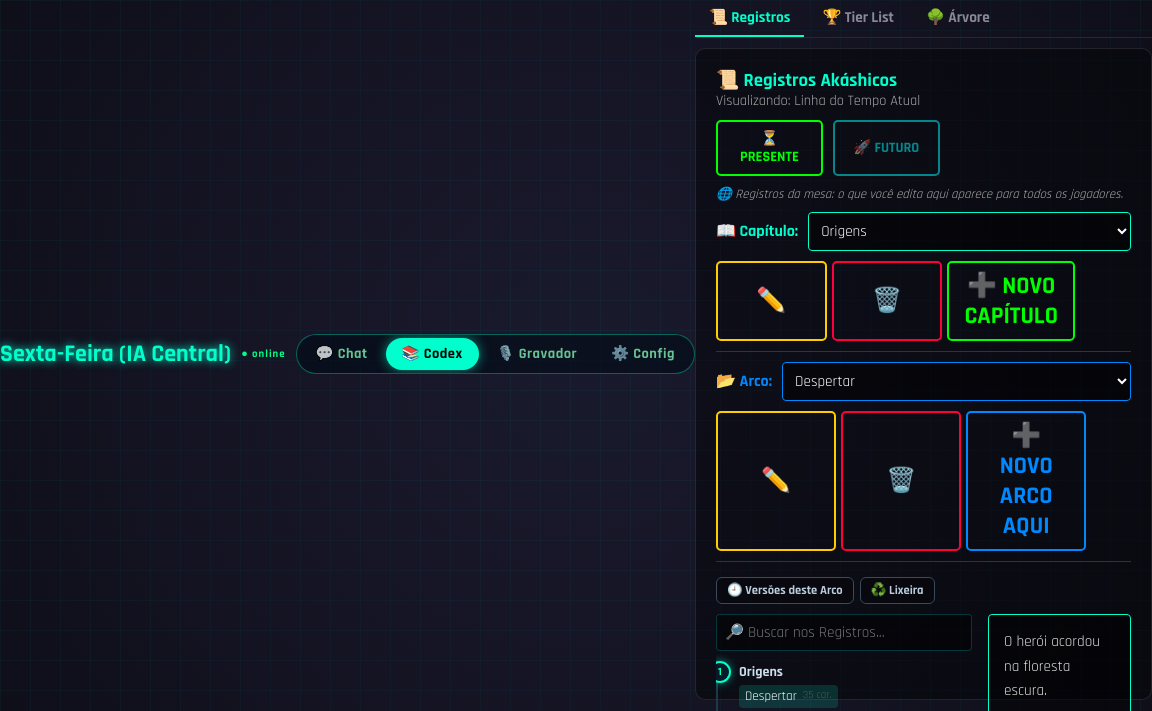
VersoesArcoModal › restaurar confirmado: guarda o texto atual, substitui, avisa e fecha o modal
Click the button "🕘 Versões deste Arco".
click(785, 591)  # box [716, 577, 854, 604]
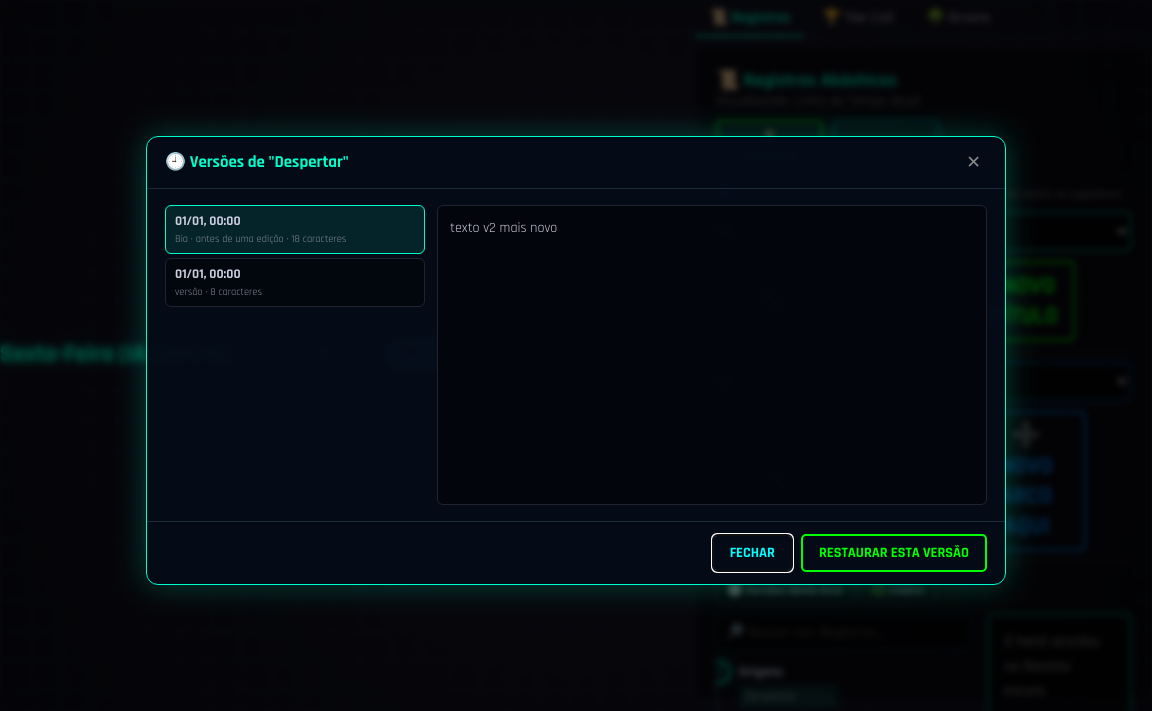
Click the button with class "sexta-versao" that starts with "versão".
click(208, 274)  # box [165, 258, 425, 306]
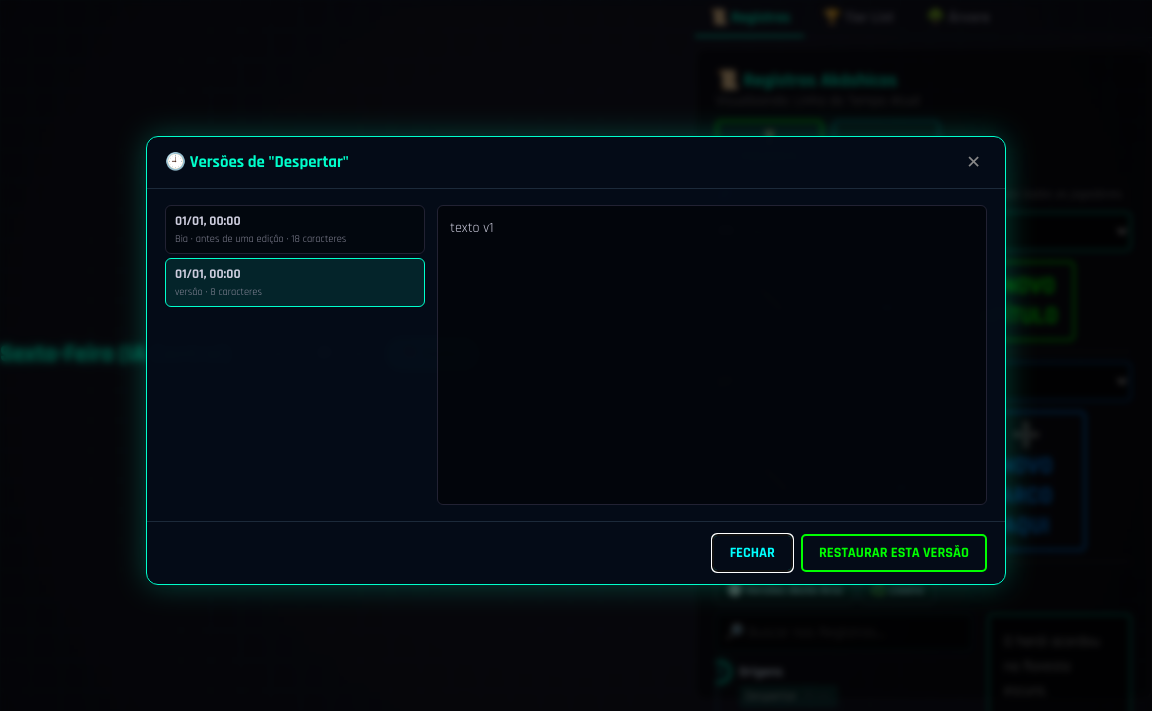
Click the button "Restaurar esta versão".
click(894, 552)  # box [801, 534, 987, 572]
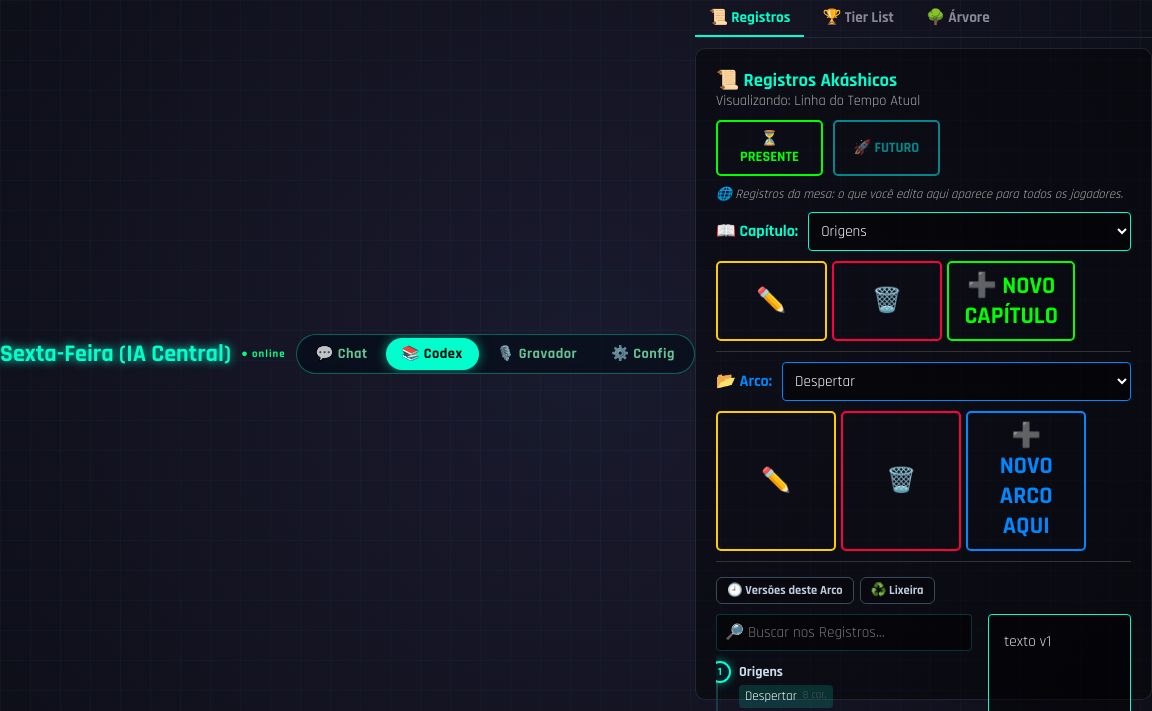
Expected: the dialog is gone
